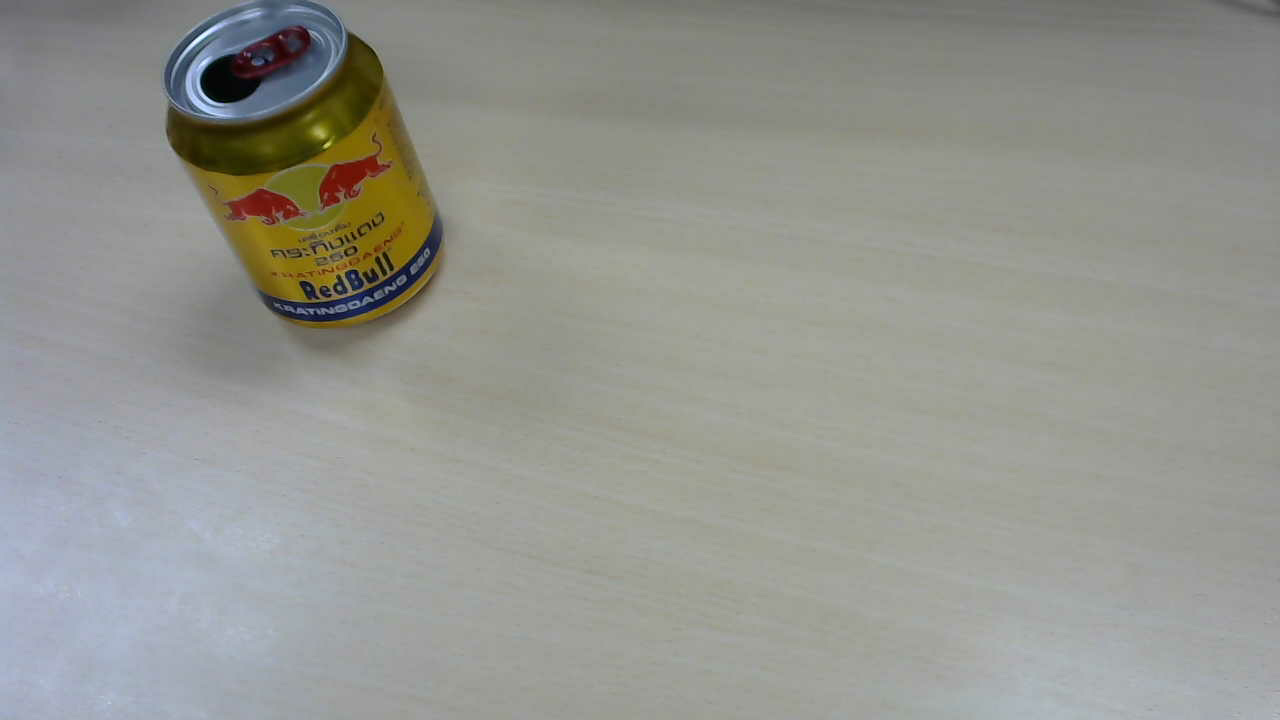Red_Bull: (167, 7, 448, 335)
